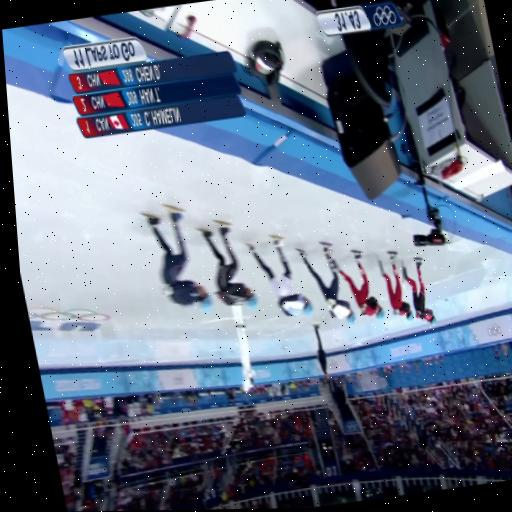Skater: (144, 205, 212, 310), (248, 235, 312, 315), (200, 221, 258, 309), (298, 242, 356, 323), (337, 250, 384, 318), (379, 251, 414, 319), (402, 257, 436, 323)
